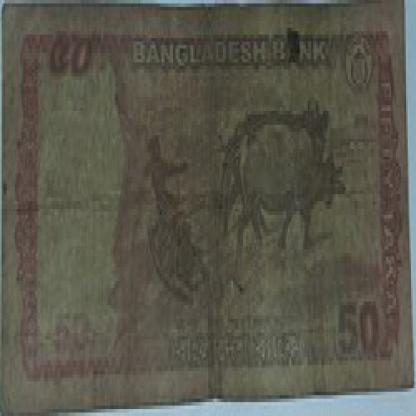Fifty taka: (326, 284, 386, 371), (43, 28, 105, 94)
